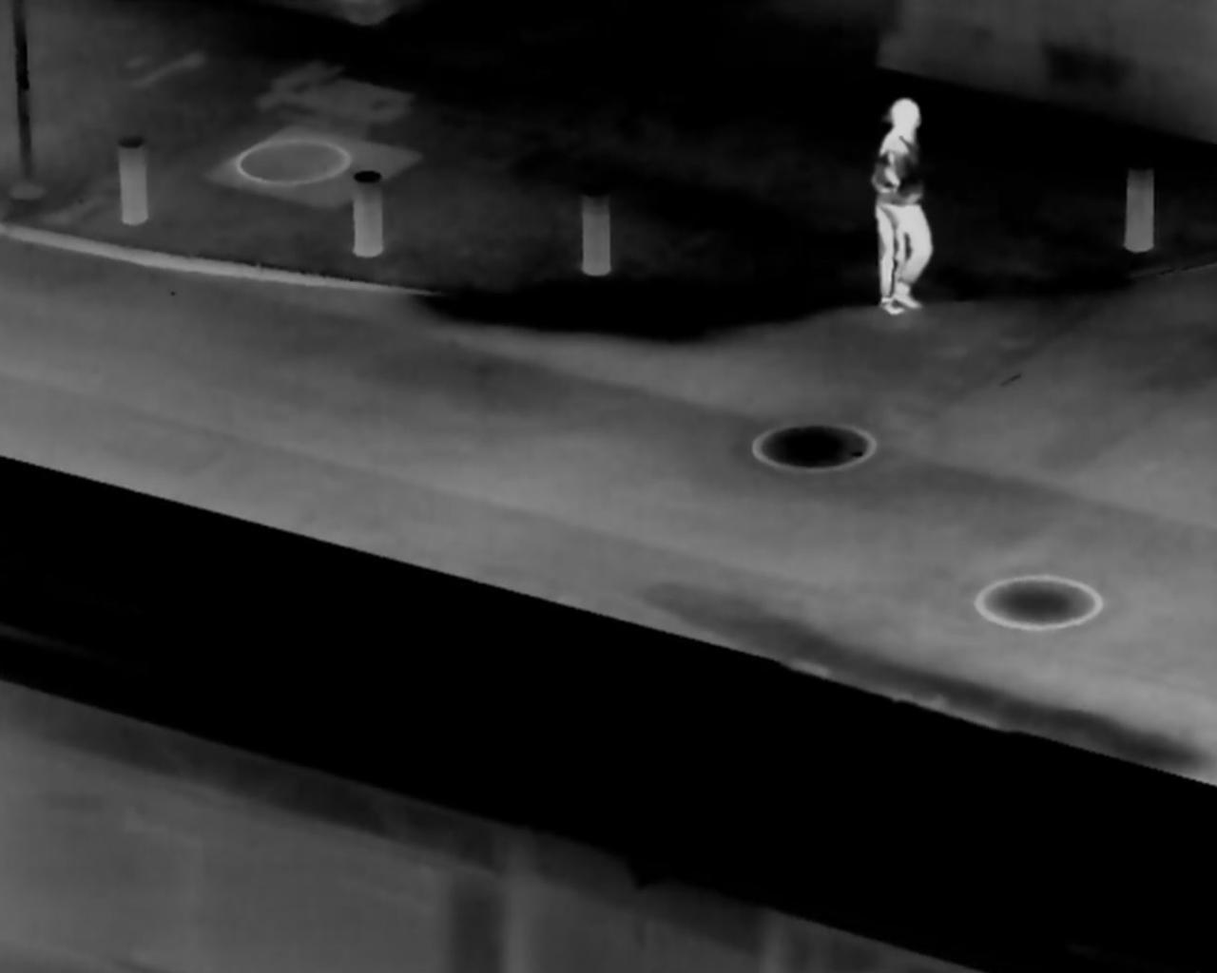person: (860, 93, 944, 323)
